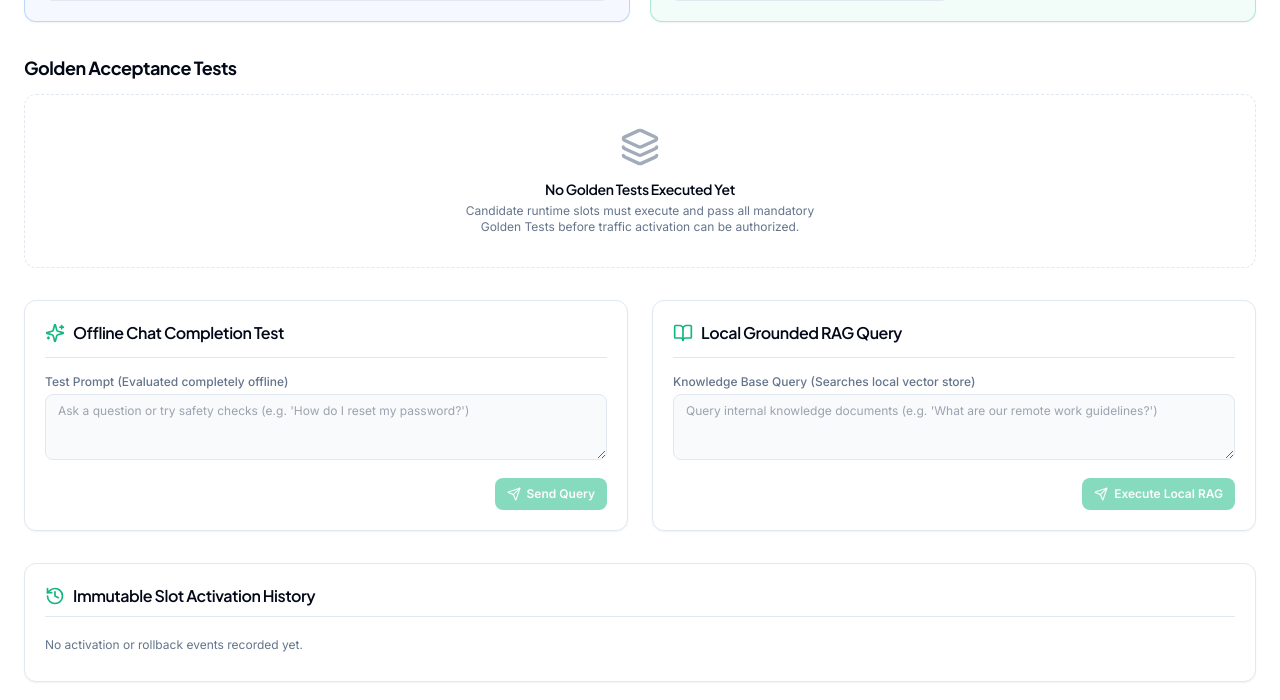
it: Customer Runtime & Site Agent Frontend Suite › renders the Runtime Dashboard and executes offline chat completion test
The width and height of the screenshot is (1280, 700).
(page scrolled)
Note: Fill chat prompt
Replace the text in the text box with placeholder "Ask a question or try safety checks" with "Test prompt message" at (326, 427), box [45,394,607,460]
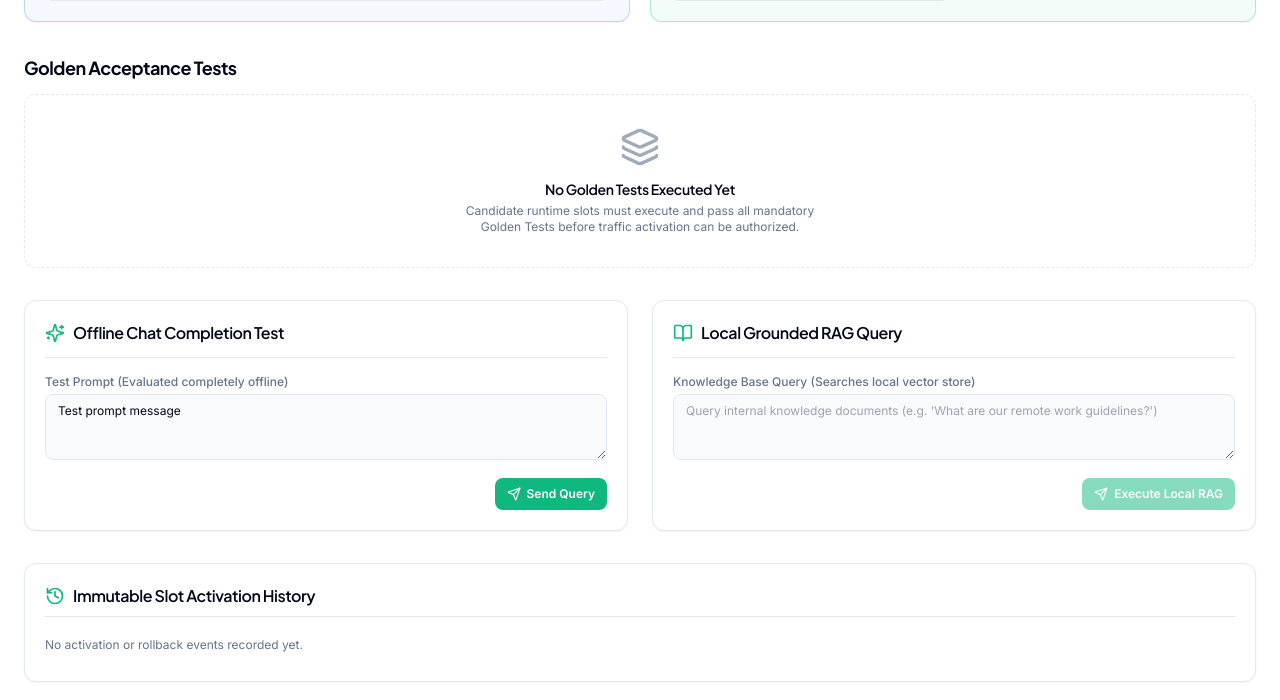
Click the button "Send Query".
click(551, 494)  # box [494,478,607,510]
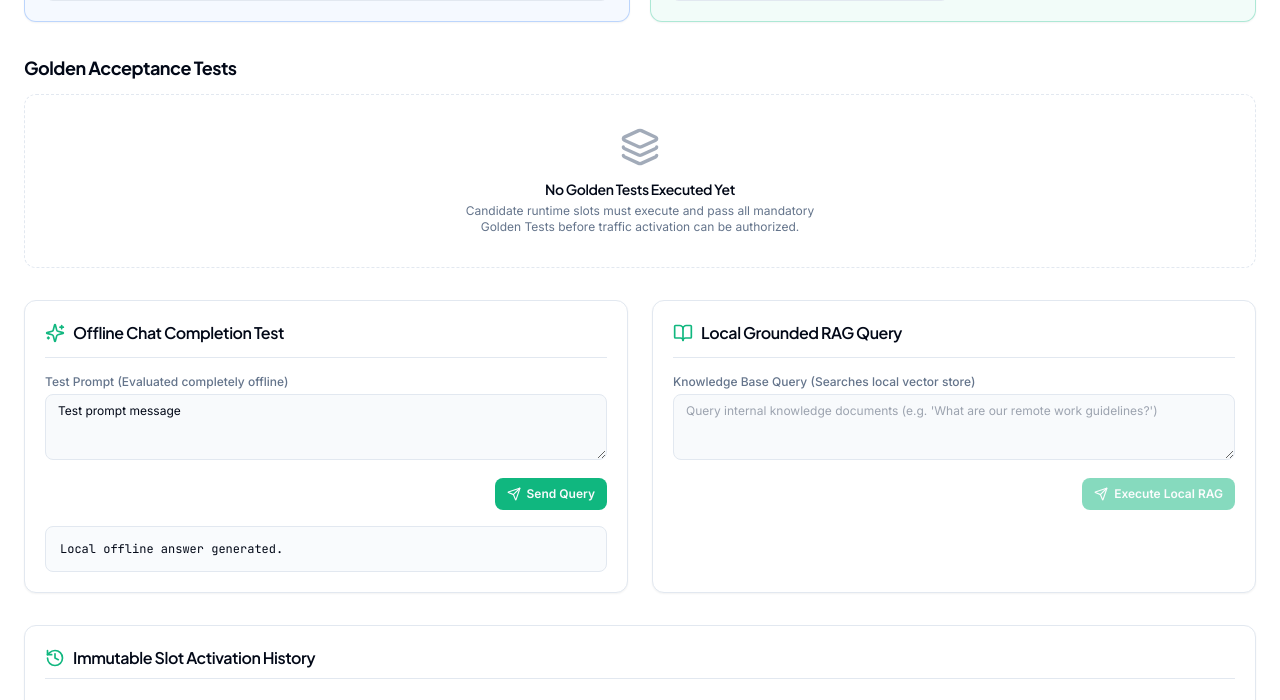
Result: the text "Local offline answer generated." is shown at [45,526,607,572]
